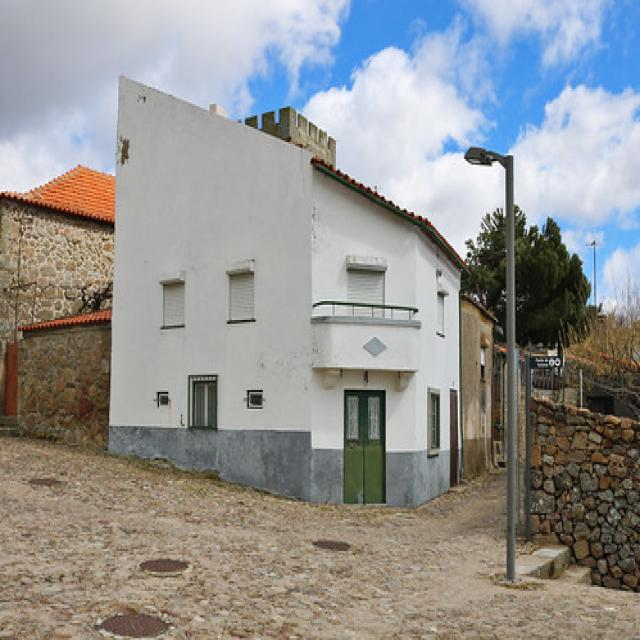building: (111, 68, 470, 515)
